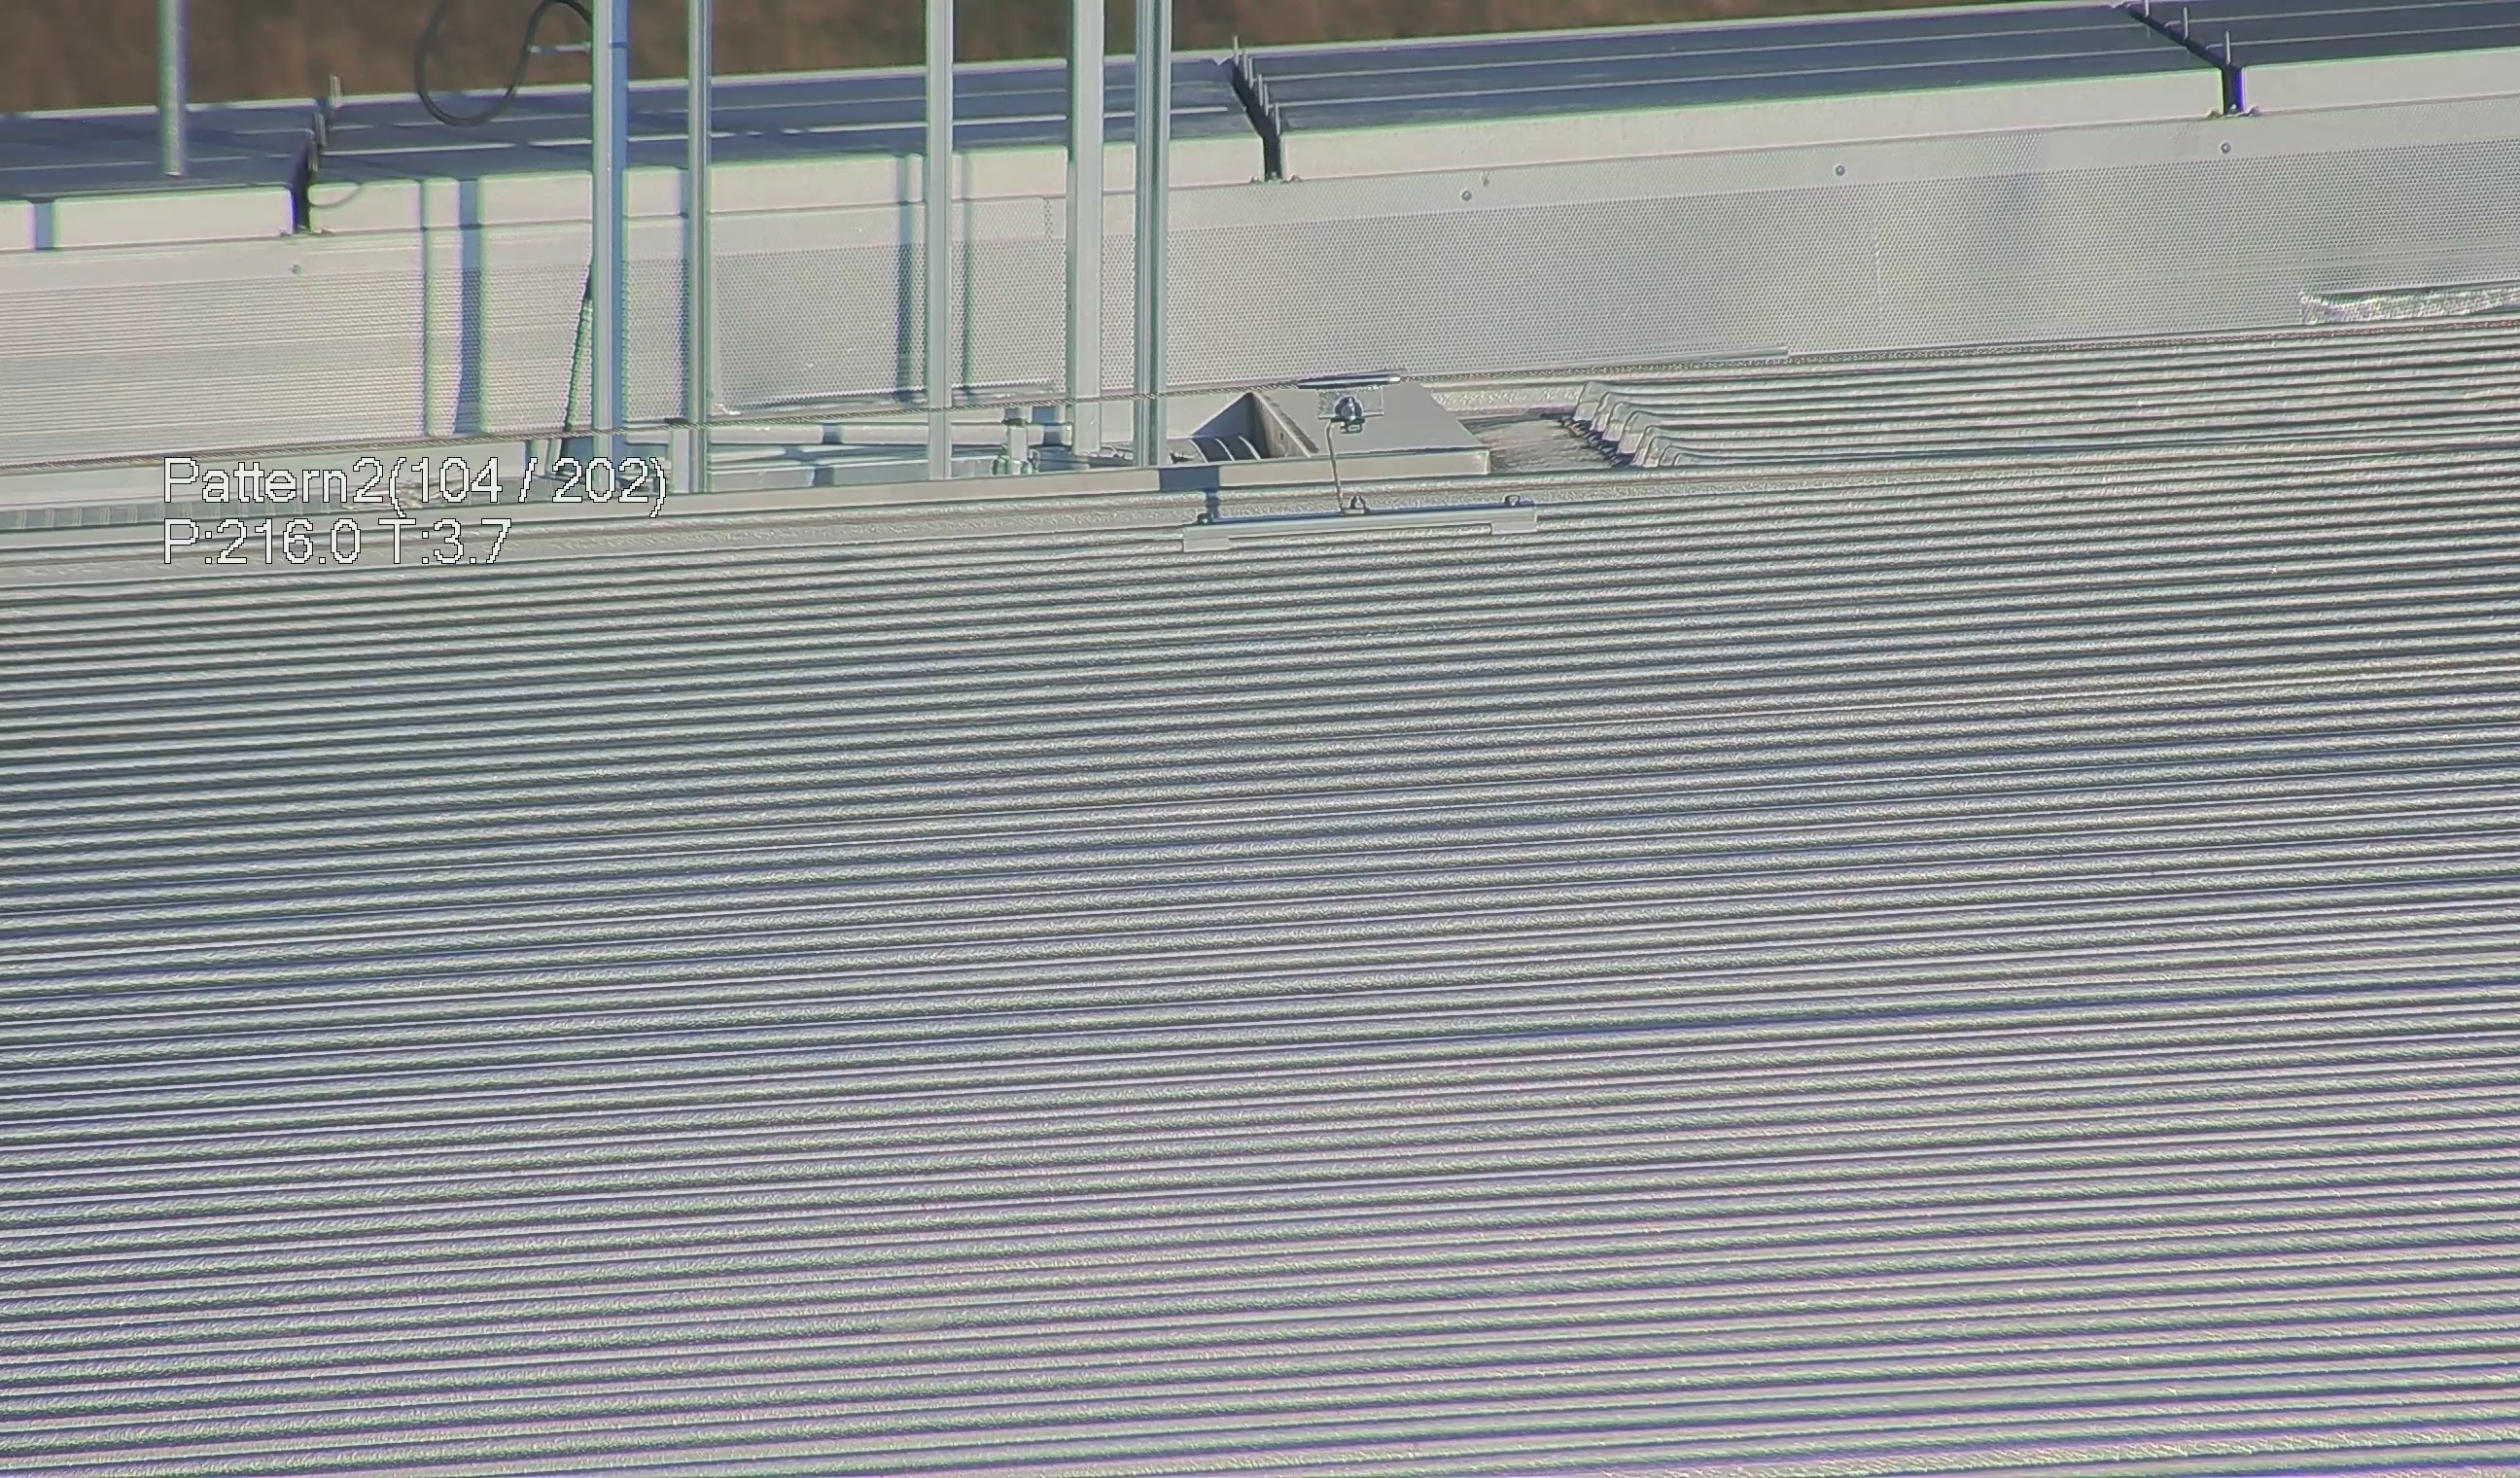Other: (1206, 21, 1308, 187)
